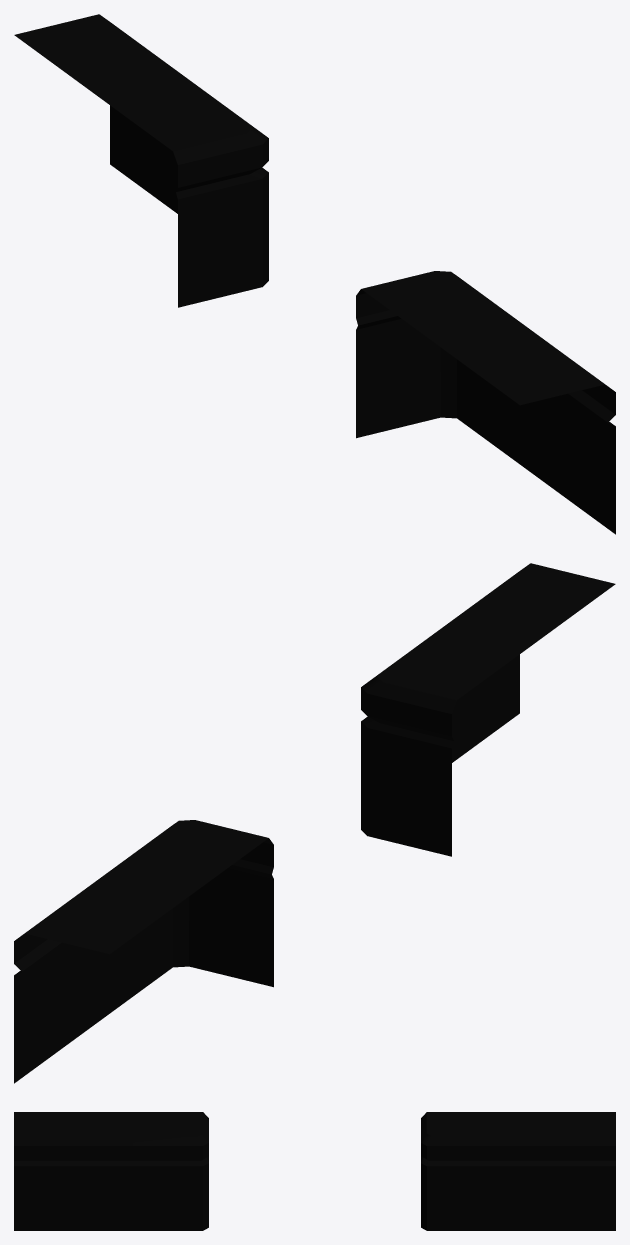
Rendered from Model_Environment_WallGroundDoor.fbx.
The picture shows the model from 3 angles, top to bottom: view 1: azimuth 30°, elevation 25°; view 2: azimuth 150°, elevation 25°; view 3: azimuth 270°, elevation 25°; orthographic projection. The views are drawn at different scales.
Parts seen in each view (by area): view 1: WallGroundDoor_low; view 2: WallGroundDoor_low; view 3: WallGroundDoor_low.
Boxes of the visible parts, box(x1,y1,x2,y2) form: WallGroundDoor_low: box(14, 14, 615, 534); WallGroundDoor_low: box(14, 563, 615, 1083); WallGroundDoor_low: box(14, 1112, 615, 1230).
Bounding box in the file's own units: 0.3286 × 0.5 × 3.
